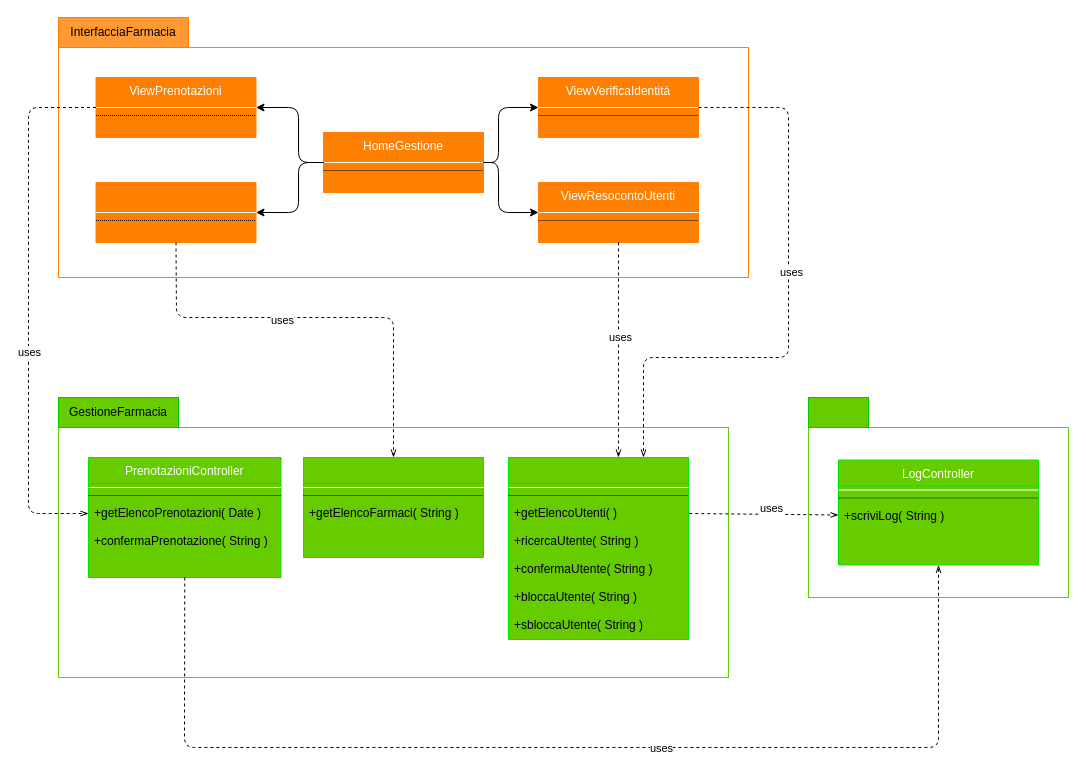
Some shapes in this 1086 by 773 pixel diagram are drawn without their labels. Here are the shapes that lost their labels. From the top down, the box of each, then its label:
(95, 182, 256, 242): ViewFarmaci
(808, 396, 868, 428): Log
(302, 456, 484, 558): FarmaciController
(508, 456, 688, 640): UtentiController
